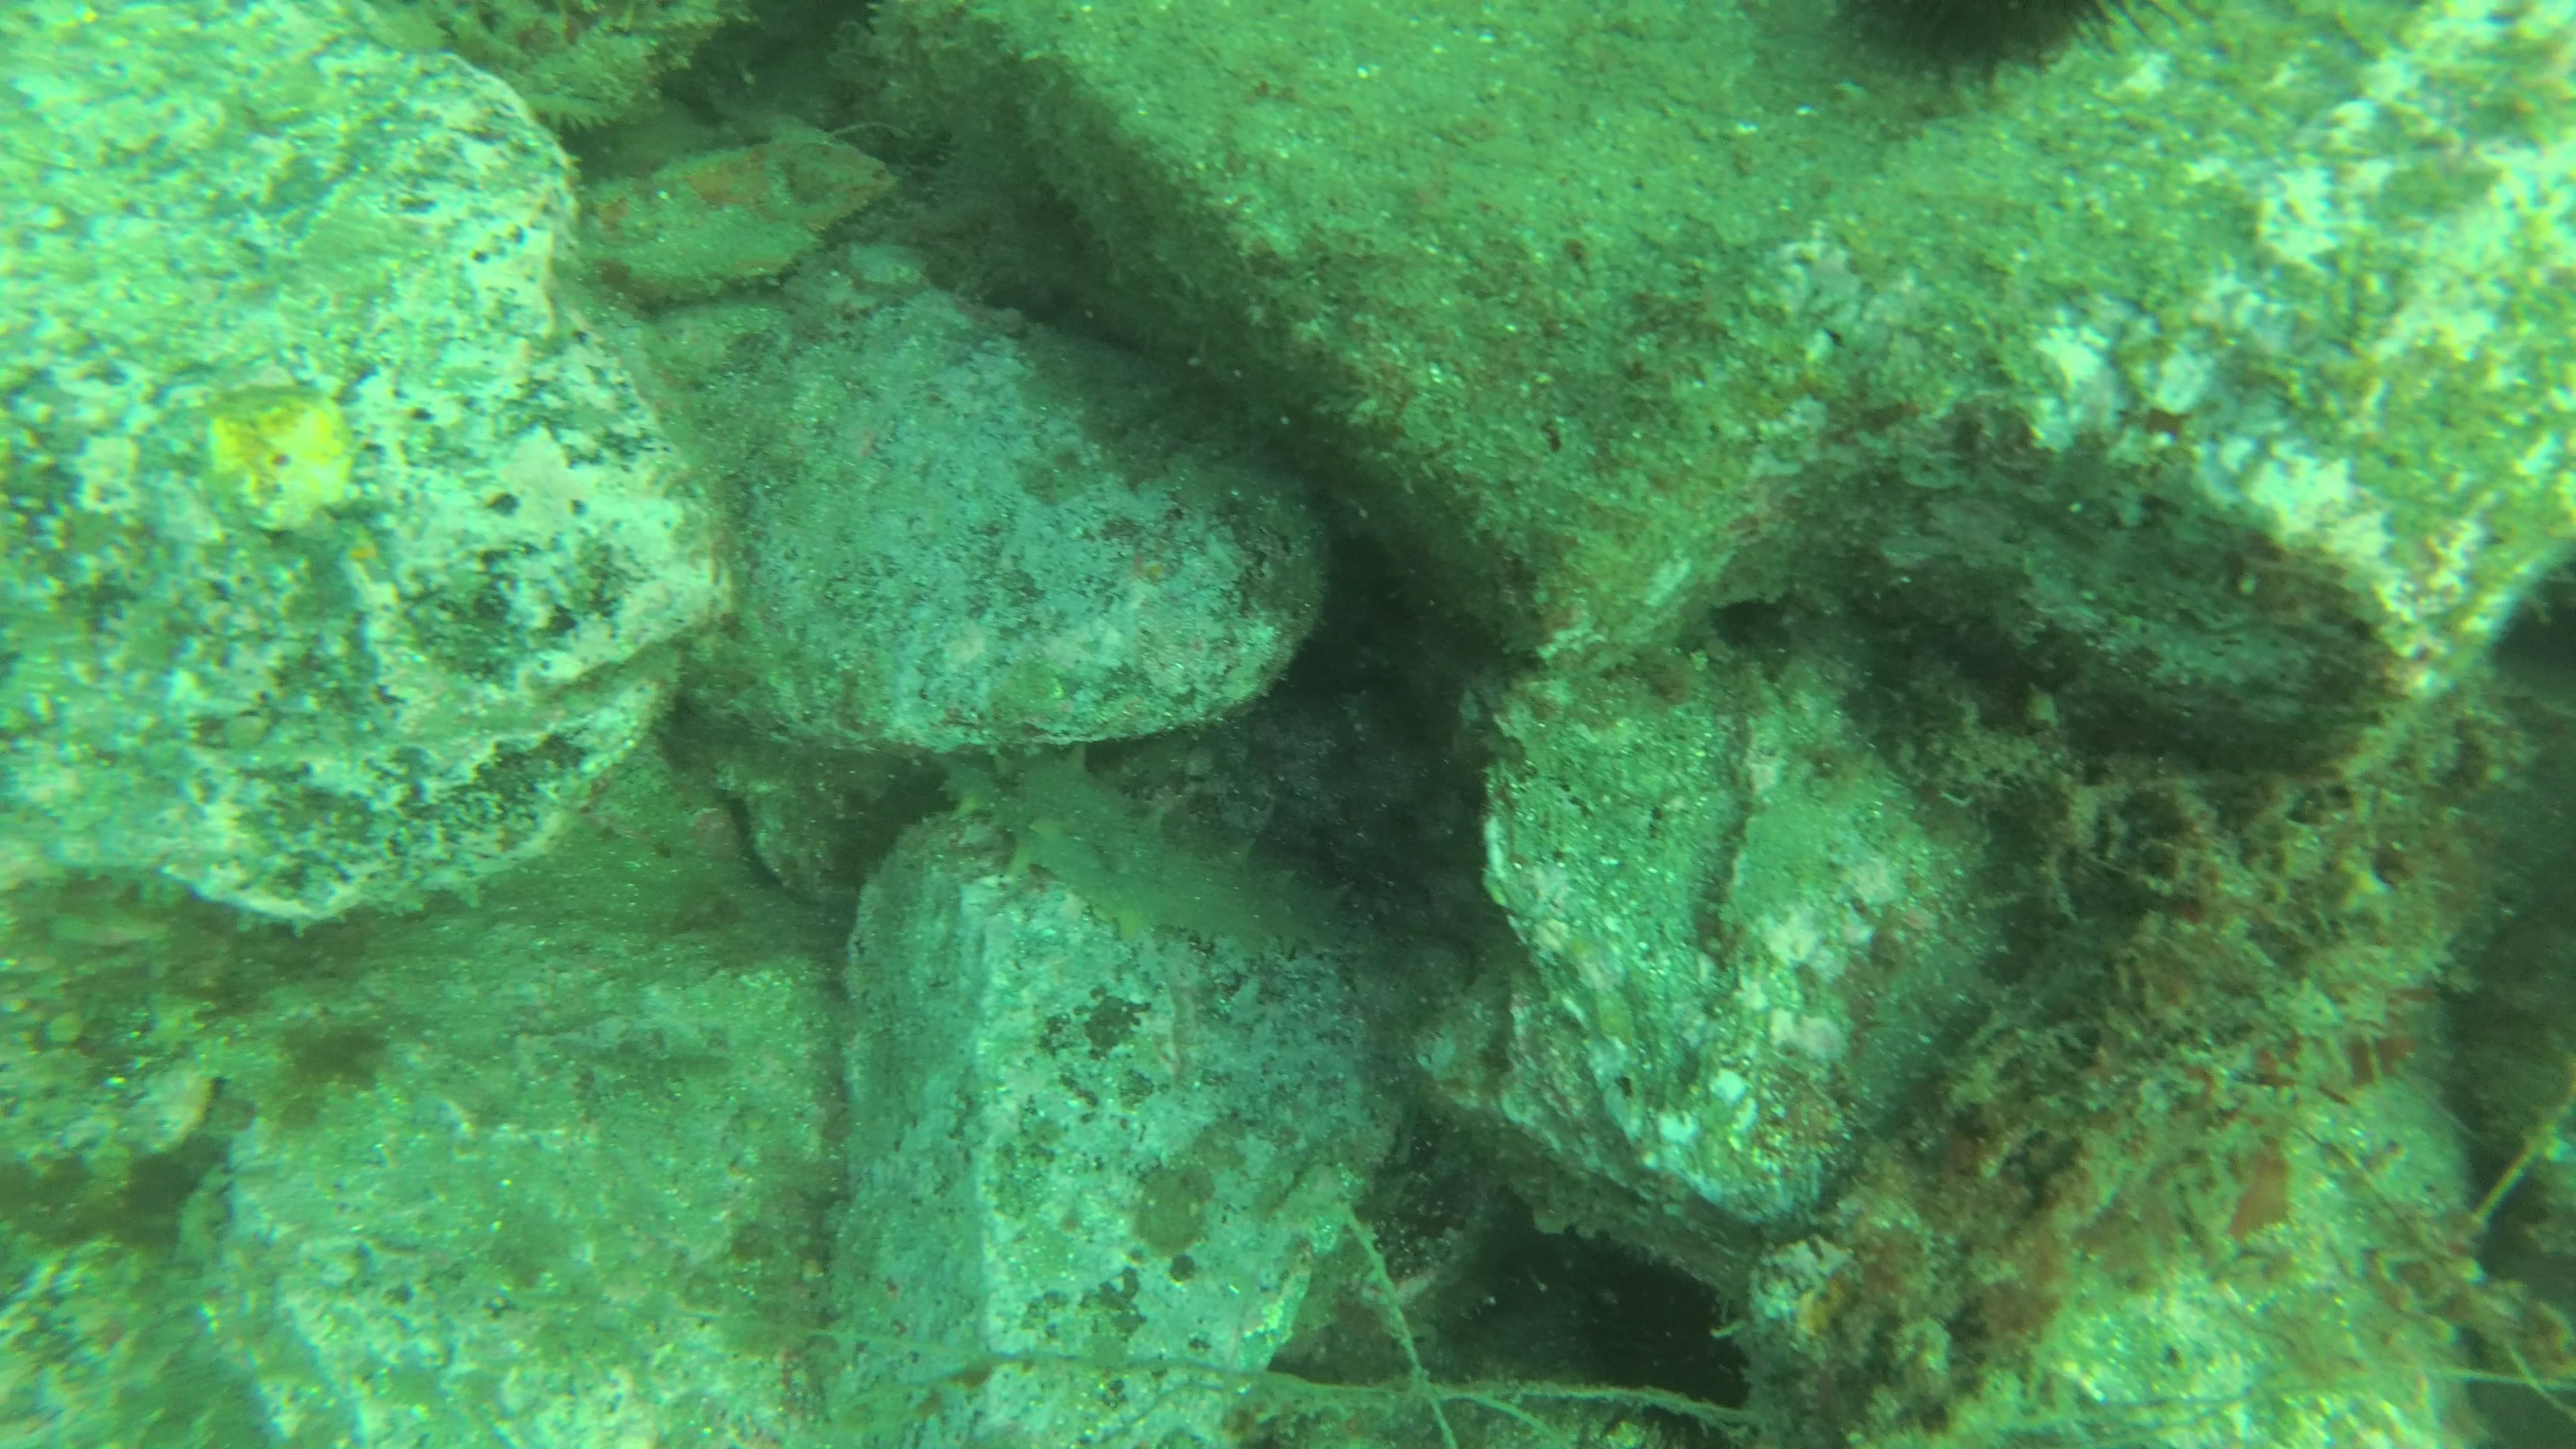echinus: (1821, 0, 2167, 87), (1585, 1256, 1741, 1392)
holothurian: (931, 745, 1398, 970)
